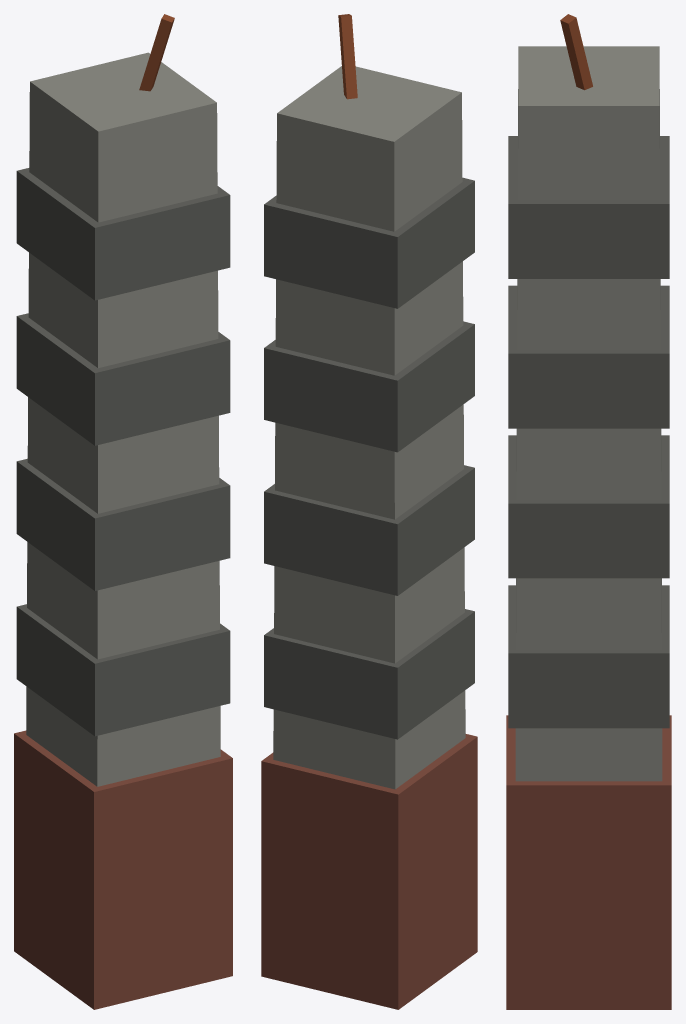
File: ruins_house_corner.glb
3 views of the same model, side by side, from view 1: azimuth 30°, elevation 25°; view 2: azimuth 150°, elevation 25°; view 3: azimuth 270°, elevation 25° (orthographic). The views are drawn at different scales.
Visible parts, largest first — view 1: ruins_house_corner_mesh; view 2: ruins_house_corner_mesh; view 3: ruins_house_corner_mesh.
Boxes of the visible parts, x1=… form: ruins_house_corner_mesh: x1=14, y1=14, x2=232, y2=1009; ruins_house_corner_mesh: x1=261, y1=14, x2=477, y2=1009; ruins_house_corner_mesh: x1=506, y1=14, x2=671, y2=1009.
Size of the model in its own units: 0.4 by 2.6 by 0.4.
